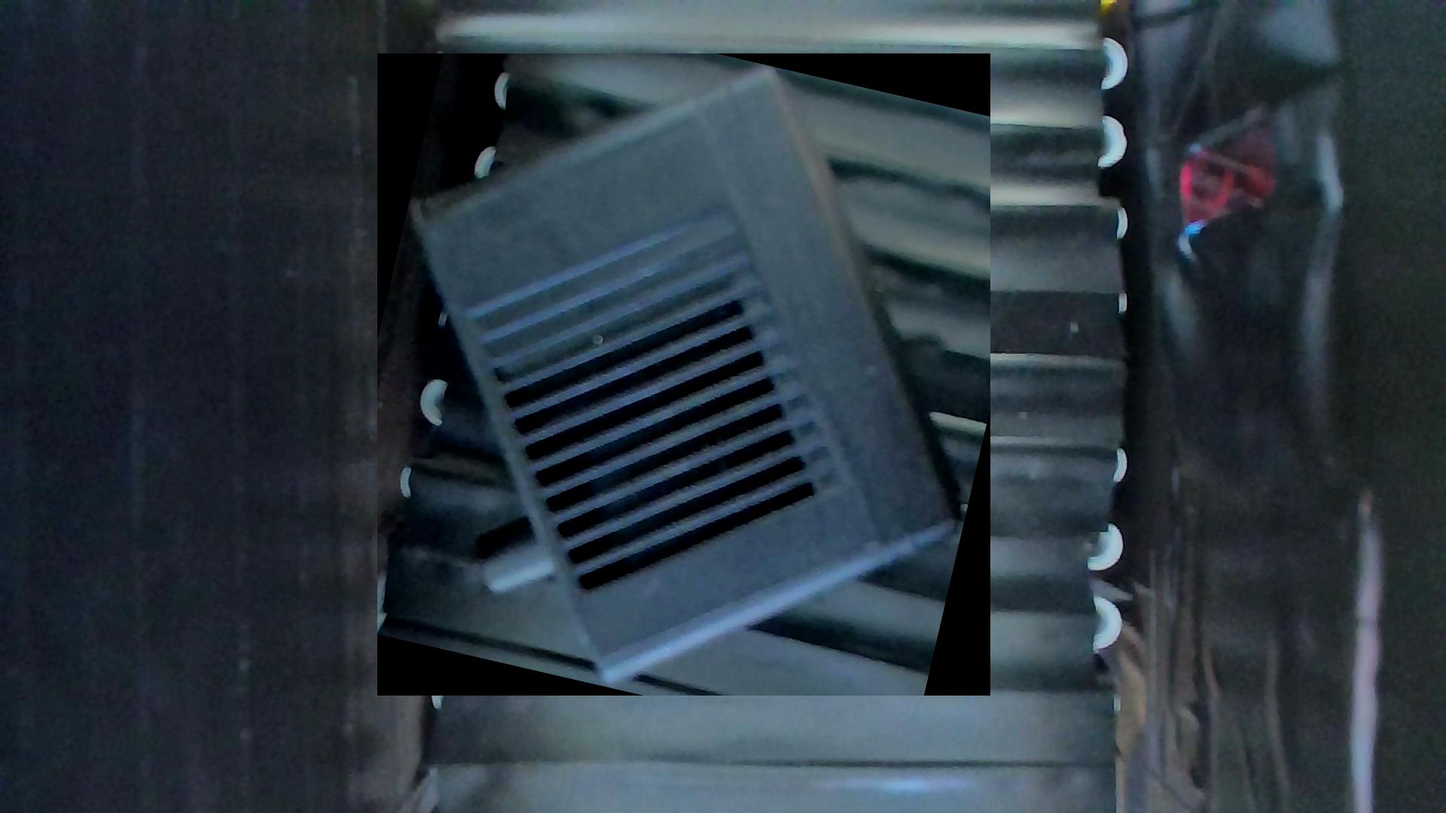motor: (377, 54, 990, 696)
